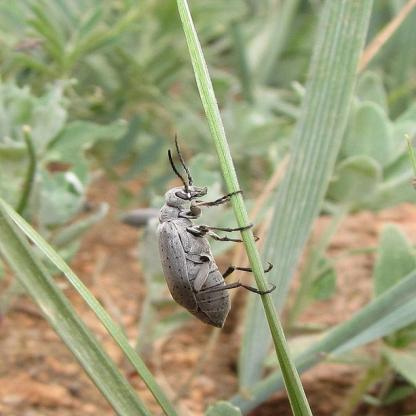beetle: (134, 155, 285, 340)
